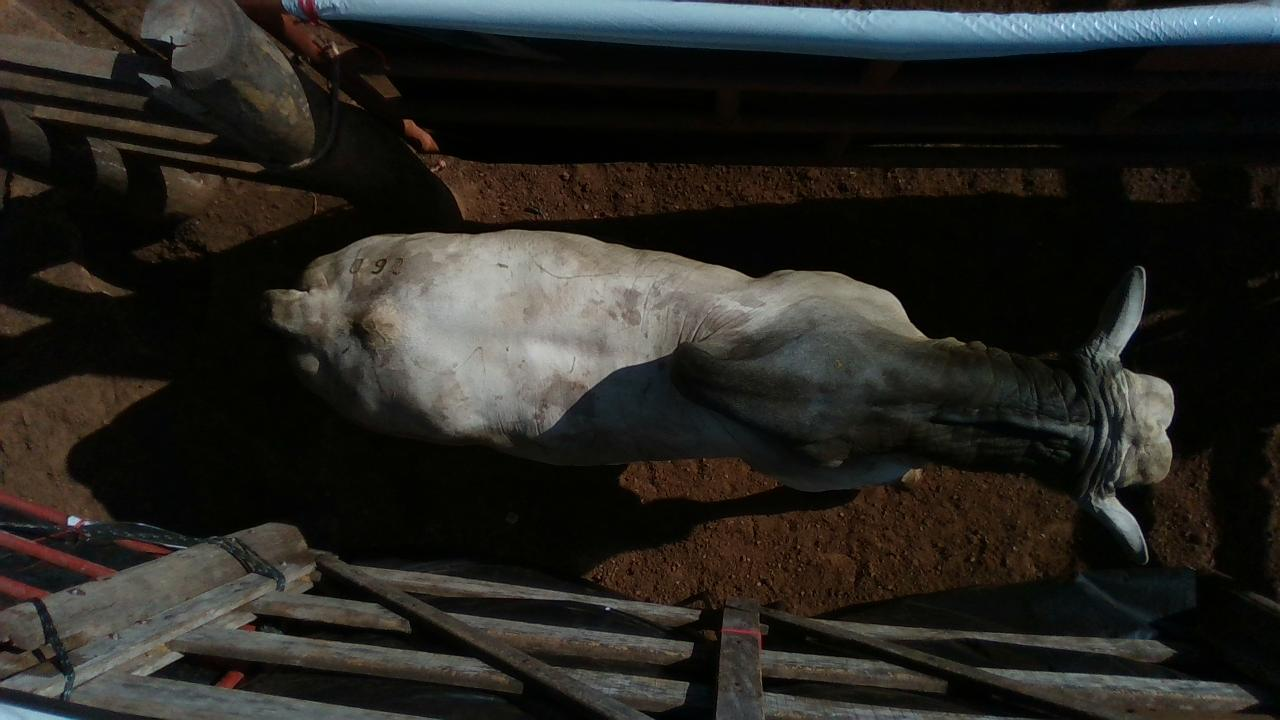cattle: (259, 225, 1177, 566)
